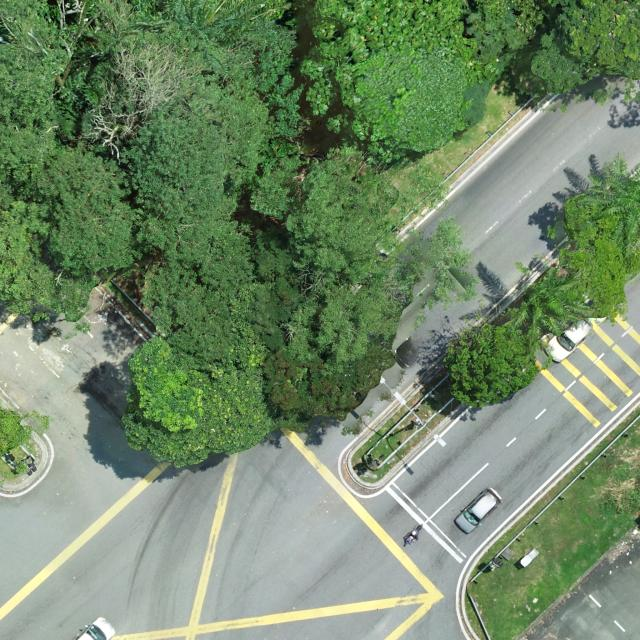tree: (249, 146, 423, 373), (301, 0, 499, 168), (140, 219, 304, 375), (117, 76, 276, 222), (121, 334, 271, 469), (463, 0, 640, 102), (0, 180, 102, 325), (34, 142, 142, 278), (557, 193, 640, 325), (262, 347, 399, 423), (502, 257, 608, 348), (442, 322, 539, 408), (576, 150, 640, 260)
